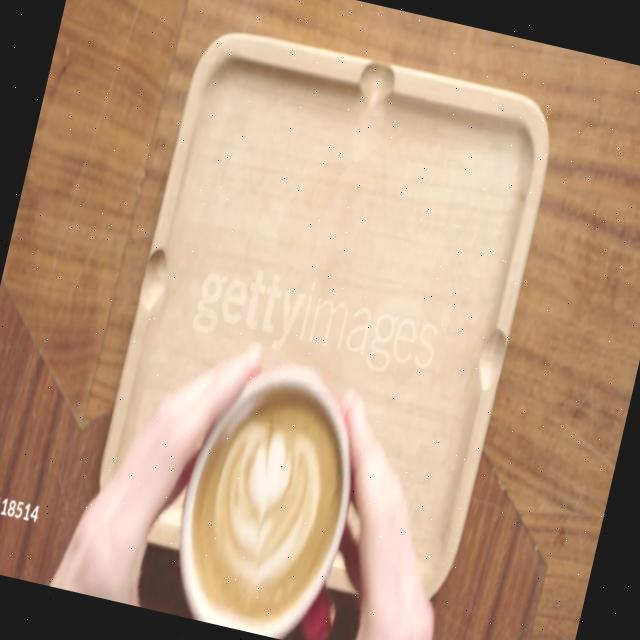cup: (159, 347, 387, 640)
tray: (84, 20, 562, 613)
